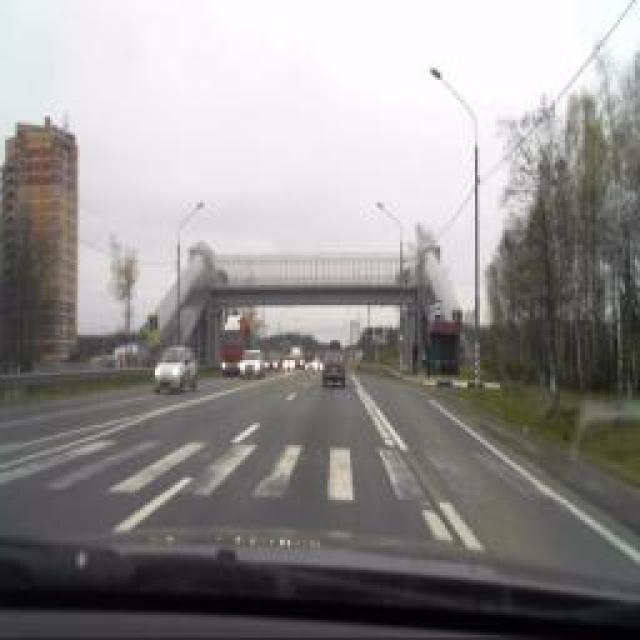sign: (434, 300, 441, 320)
